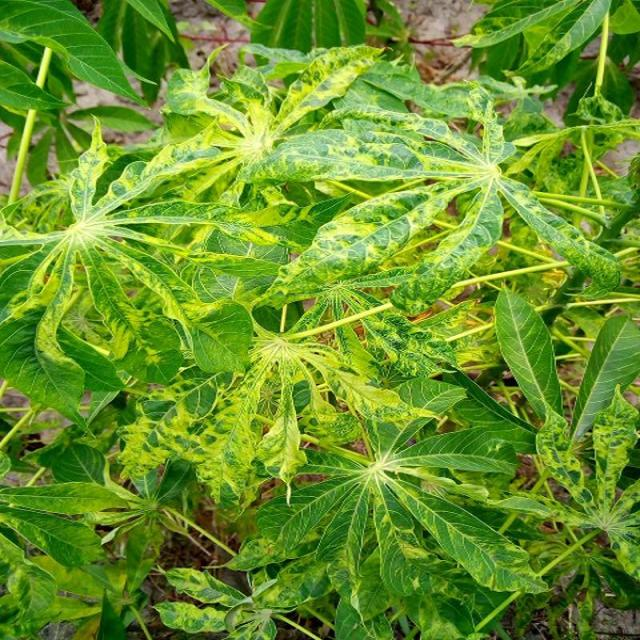cassava leaf: (1, 29, 634, 636), (493, 285, 563, 424)
